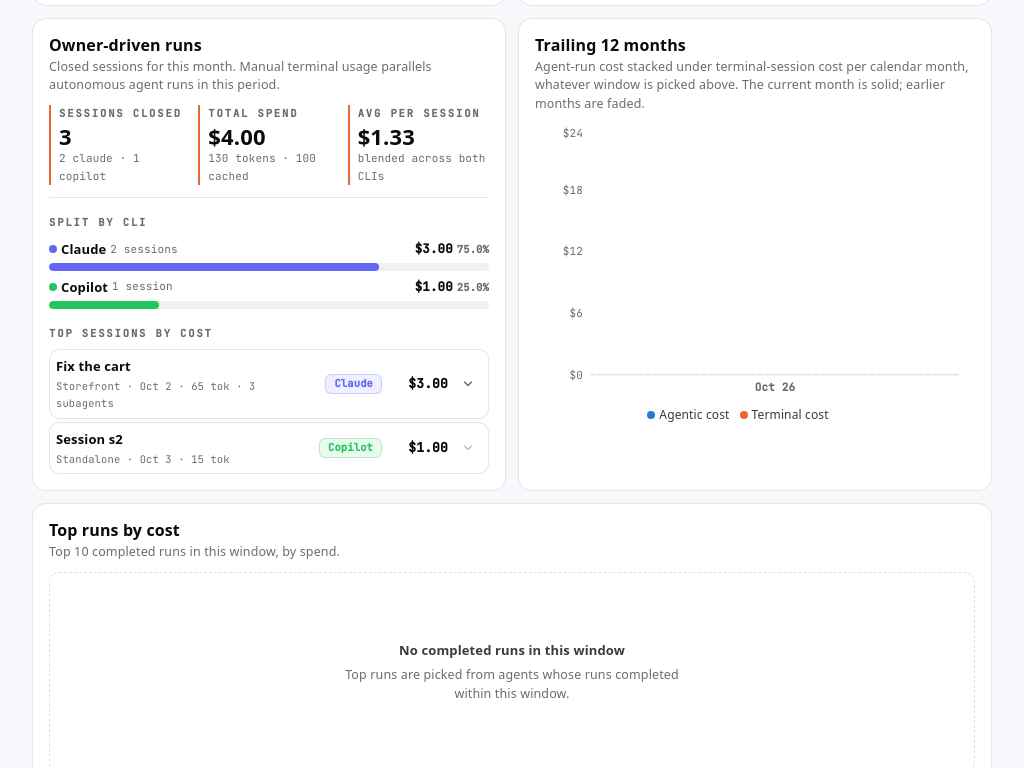
Test case: Analytics — Spend tab › draws terminal sessions with their subagents
(page scrolled)
Click the button named "Expand subagents" in the row of "· 3 subagents".
click(468, 384)  # box [454,370,482,398]
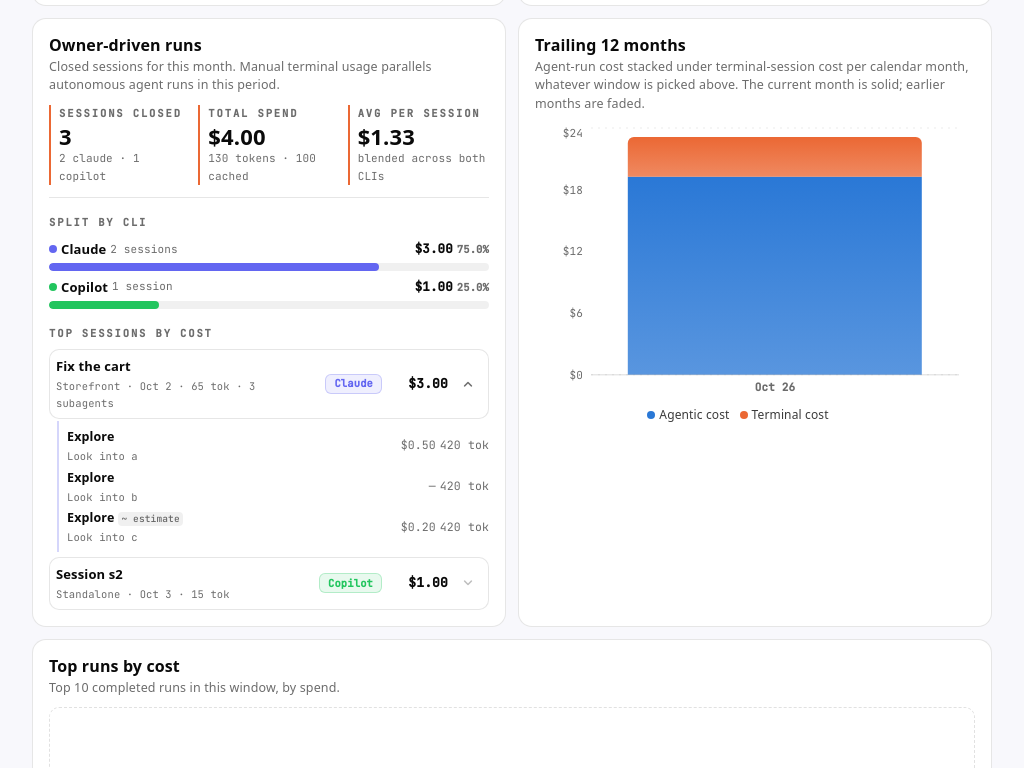
Expected: the text "Fix the cart" is shown, [56,357,131,375]
Expected: the button named "Collapse subagents" is shown, [454,370,482,398]
